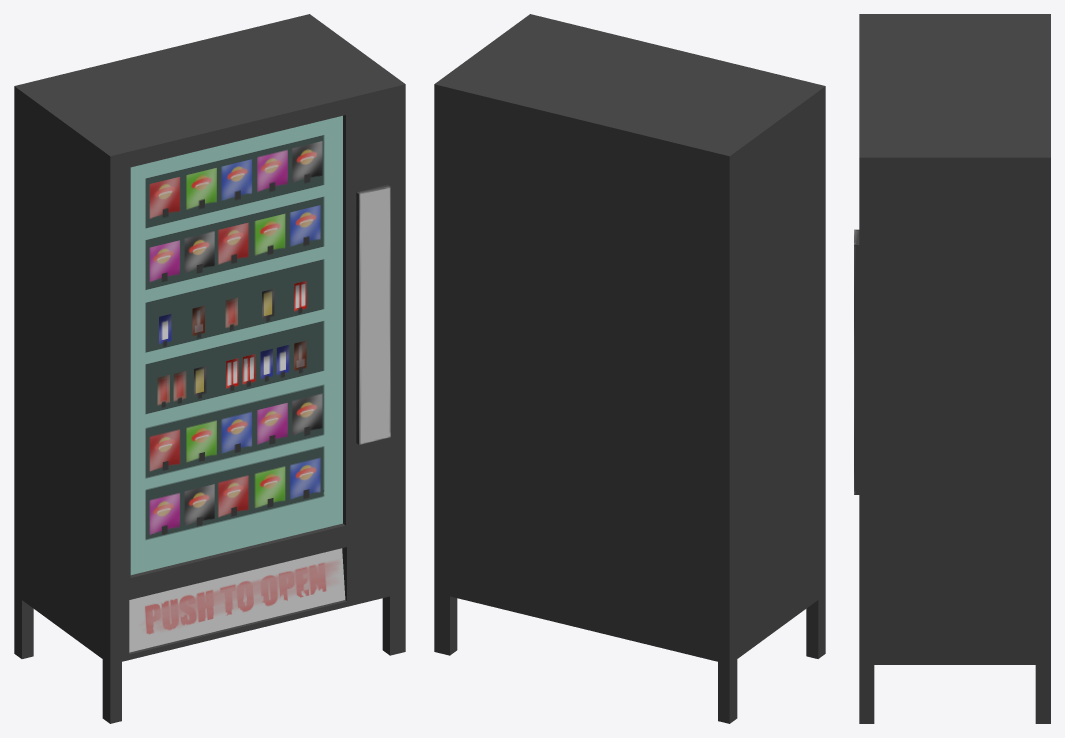
Rendered from MP_Ass2_Vending 1.fbx.
3 views of the same model, side by side, from view 1: azimuth 30°, elevation 25°; view 2: azimuth 150°, elevation 25°; view 3: azimuth 270°, elevation 25° (orthographic).
Visible parts, largest first — view 1: Vending_Machine; view 2: Vending_Machine; view 3: Vending_Machine.
Boxes of the visible parts, bbox=[...] form: Vending_Machine: bbox=[14, 14, 405, 723]; Vending_Machine: bbox=[434, 14, 825, 723]; Vending_Machine: bbox=[854, 14, 1050, 723].
Size of the model in its own units: 355 by 653 by 206.
